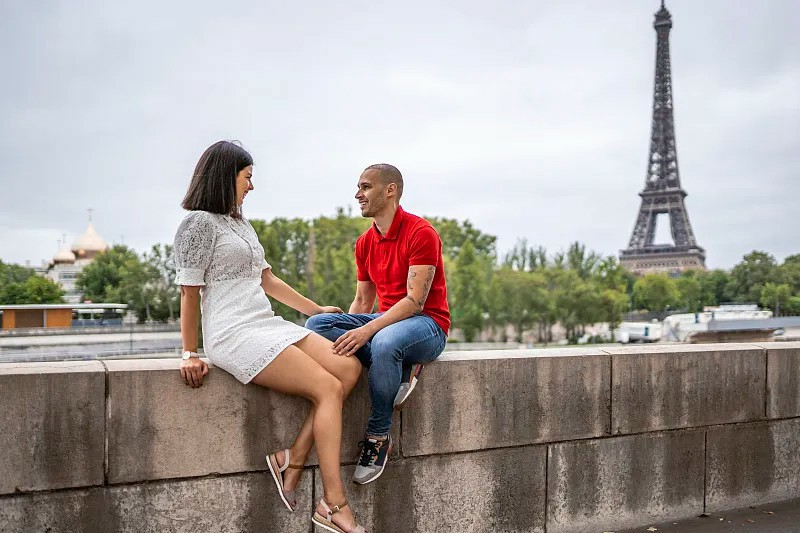Eiffel: (614, 1, 709, 279)
